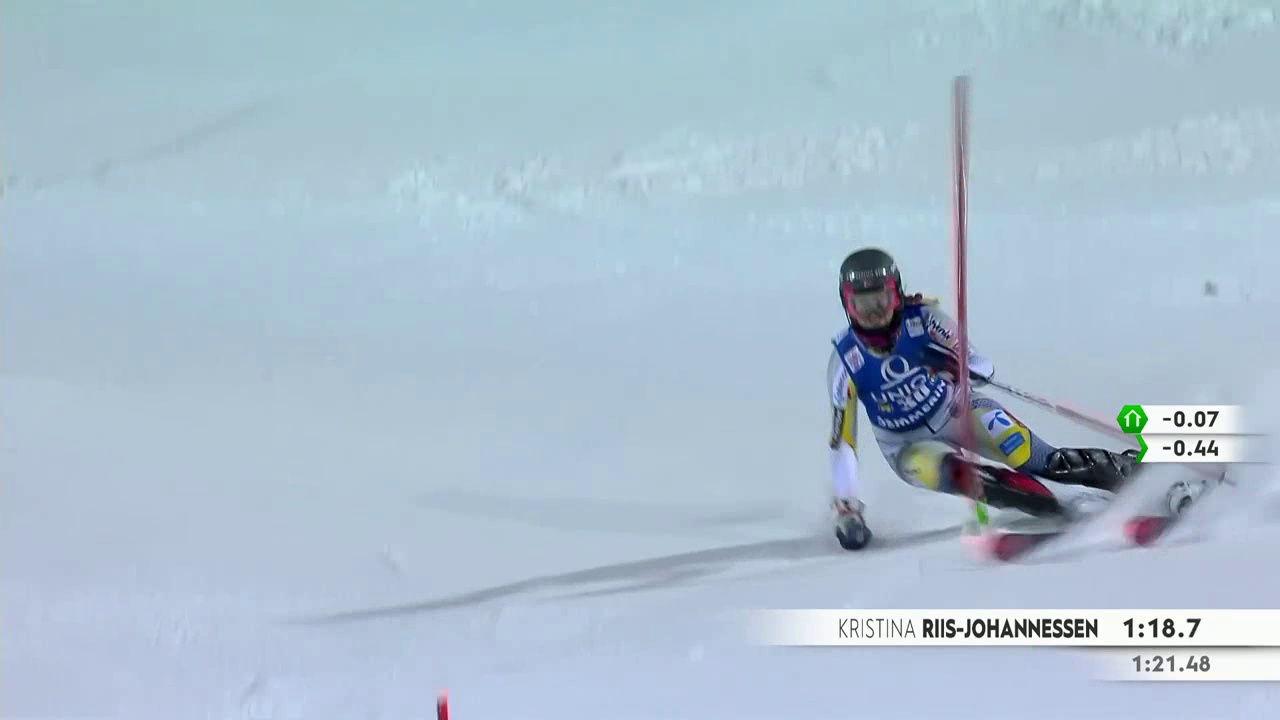uniqa: (873, 357, 945, 411)
